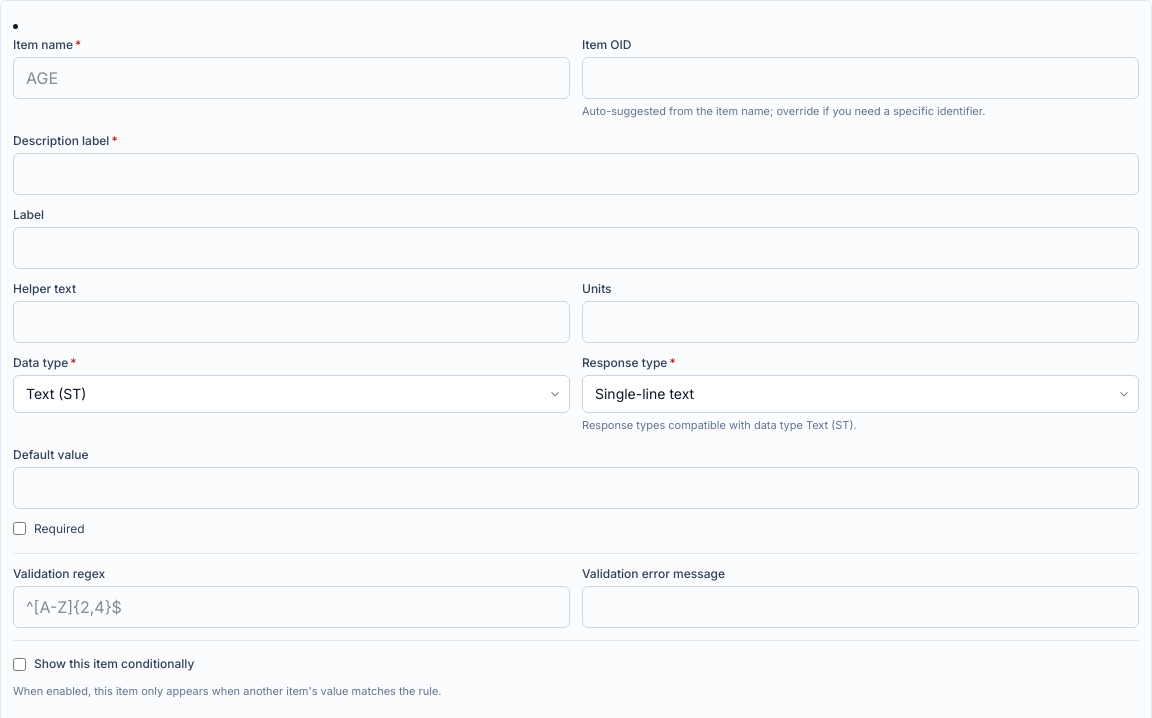
ItemEditor — Milestone B › Show-when rule editor › toggling on seeds an empty rule + mounts the editor
The width and height of the screenshot is (1152, 718).
Click the checkbox with test id "test-show-when-toggle" at (20, 664), box [13,658,26,671]
(page scrolled)
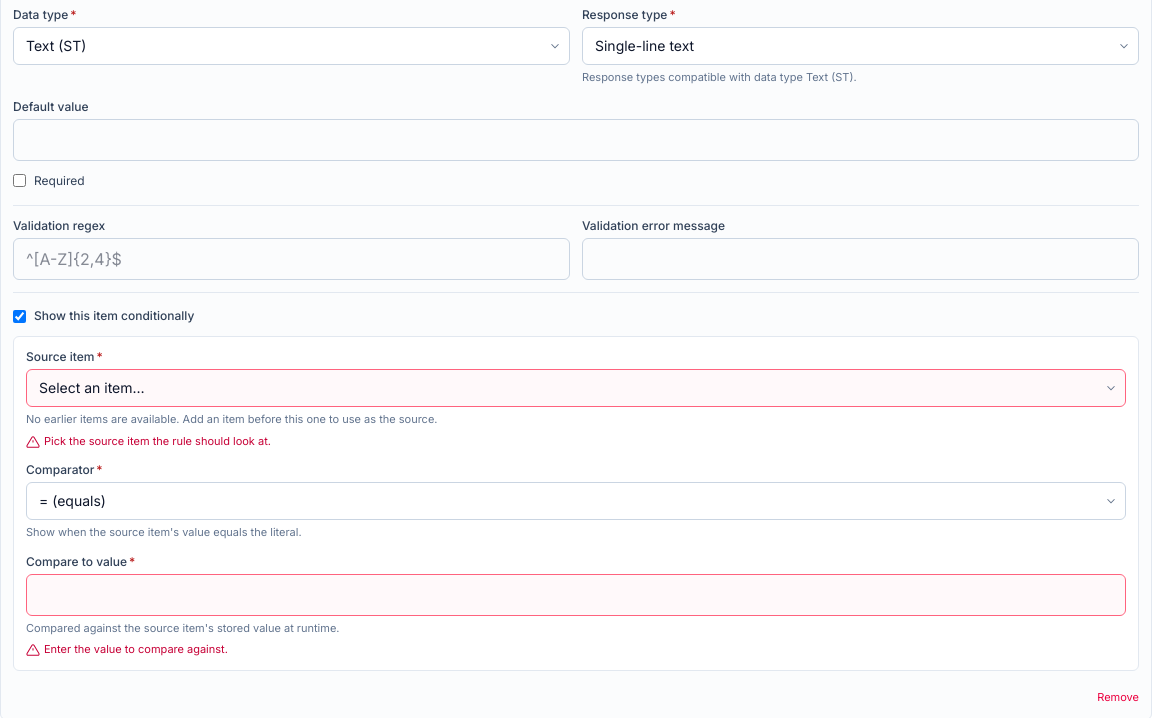
Result: the element with test id "test-show-when-rule" is shown at [13,336,1139,671]
